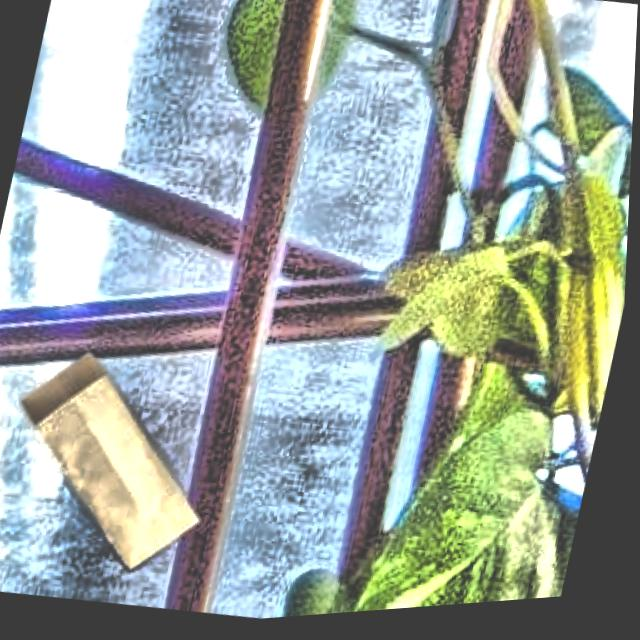Paper-bag: (0, 308, 288, 630)
